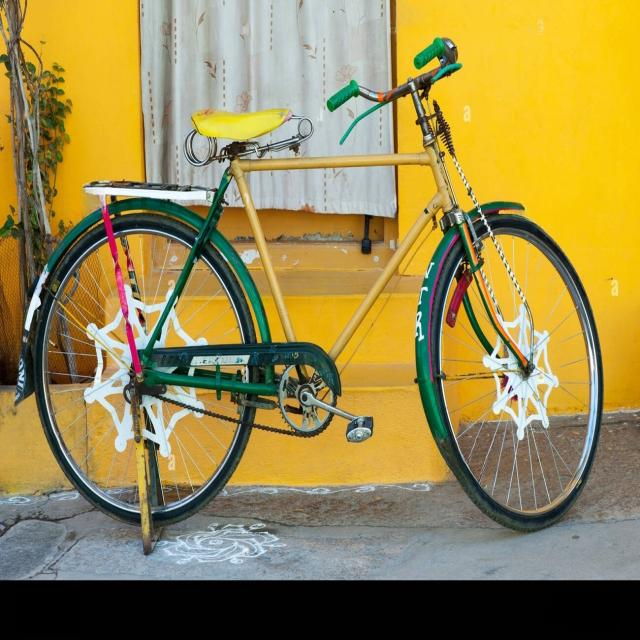bicycle: (15, 39, 602, 549)
